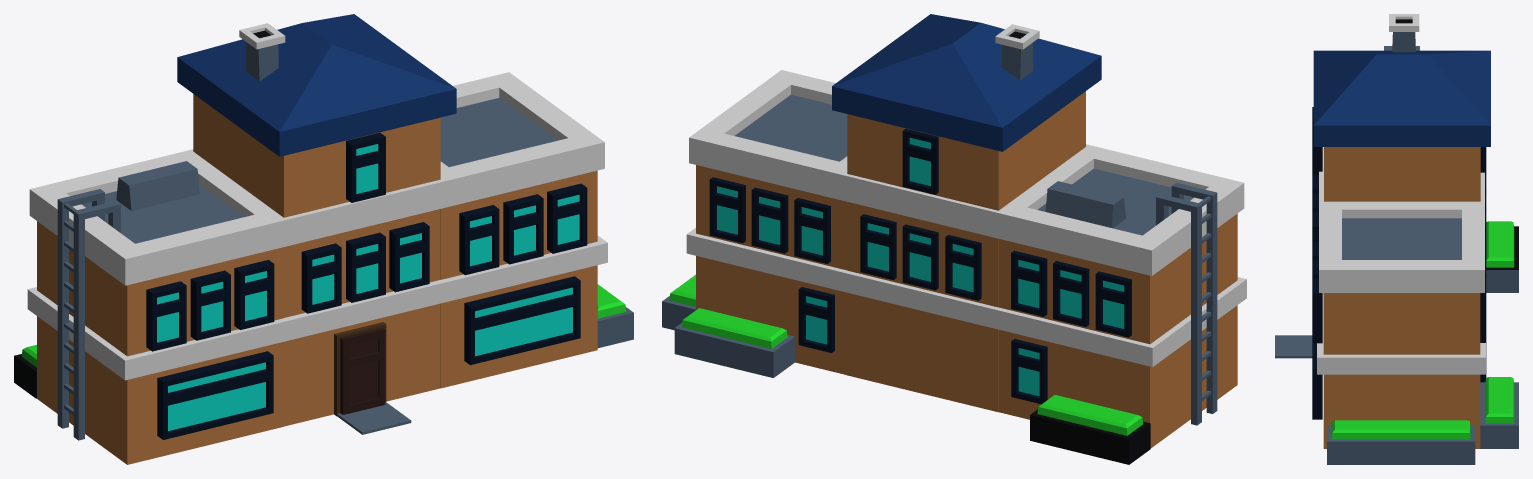
File: TownHouse_11.fbx
The picture shows the model from 3 angles, left to right: view 1: azimuth 30°, elevation 25°; view 2: azimuth 150°, elevation 25°; view 3: azimuth 270°, elevation 25°; orthographic projection. The views are drawn at different scales.
Parts seen in each view (by area): view 1: TownHouse_11; view 2: TownHouse_11; view 3: TownHouse_11.
Part boxes in pixels (box(x1,y1,x2,y2)): TownHouse_11: box(14, 14, 633, 464); TownHouse_11: box(662, 14, 1246, 464); TownHouse_11: box(1275, 14, 1518, 464).
Bounding box in the file's own units: 67.33 × 43.57 × 31.41.
